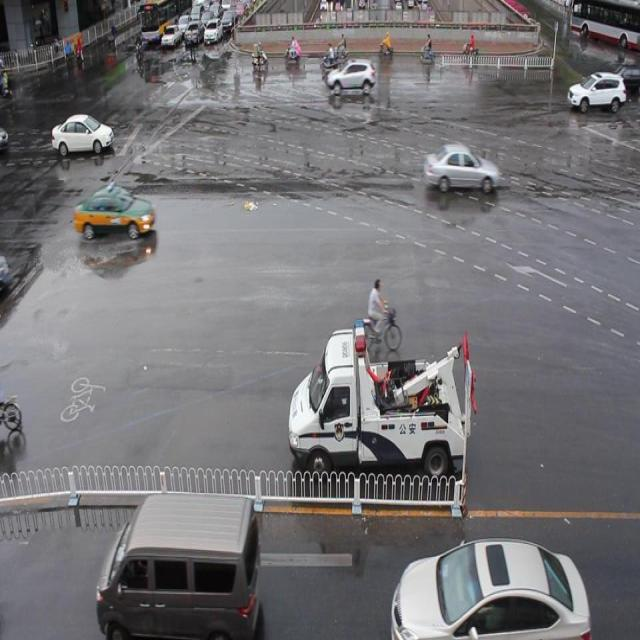bus: (289, 308, 475, 475)
car: (388, 537, 589, 640), (74, 185, 155, 238), (422, 143, 499, 194), (564, 70, 624, 111), (326, 59, 375, 94)
truck: (97, 493, 260, 640)
